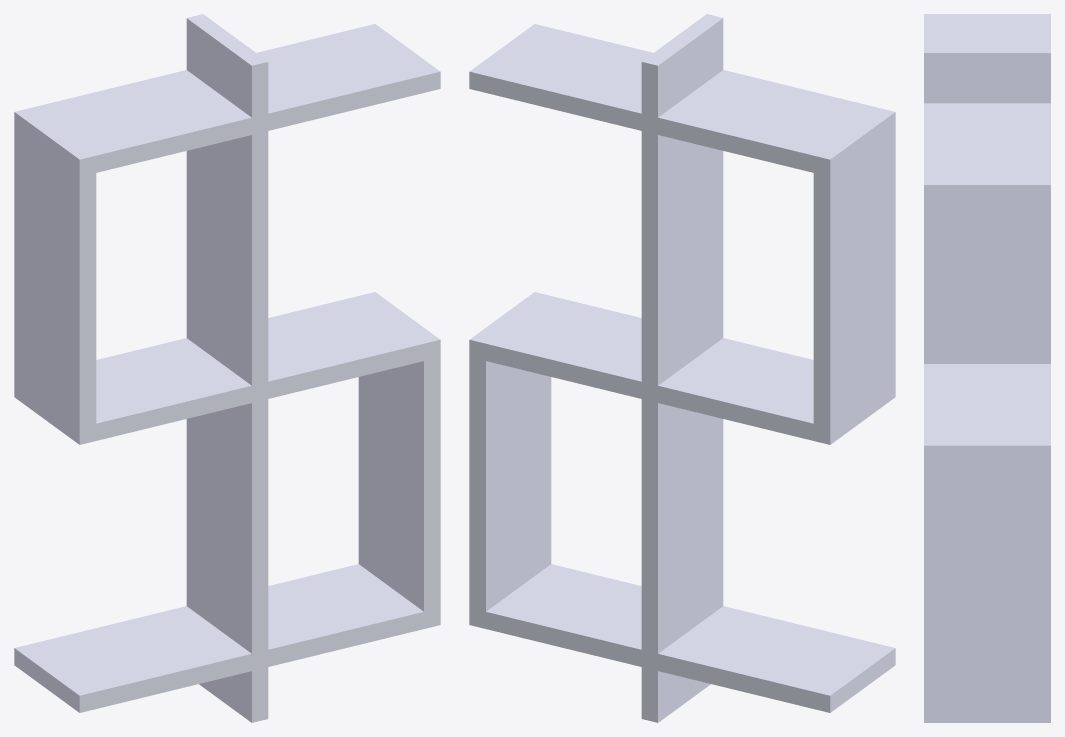
File: symbol$_AlphaProta_Grey.glb
3 views of the same model, side by side, from view 1: azimuth 30°, elevation 25°; view 2: azimuth 150°, elevation 25°; view 3: azimuth 270°, elevation 25° (orthographic). The views are drawn at different scales.
Visible parts, largest first — view 1: $_AlphaProta_Grey; view 2: $_AlphaProta_Grey; view 3: $_AlphaProta_Grey.
Part boxes in pixels (x1,y1,x2,y2): $_AlphaProta_Grey: (14,14,440,722); $_AlphaProta_Grey: (469,14,895,722); $_AlphaProta_Grey: (924,14,1050,722).
Size of what is drawn, in the model's own units: 0.1436 by 0.25 by 0.045.
2 materials, 2 textured.
